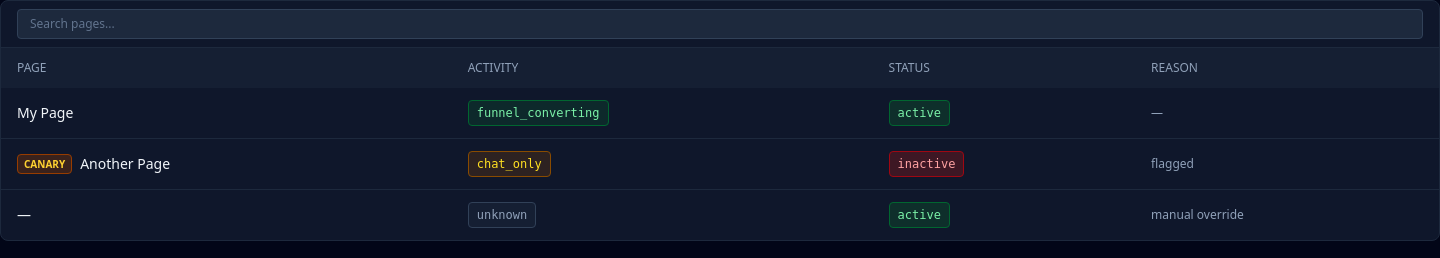
SearchablePageTable › shows empty state when no rows match
In the field with placeholder "Search pages...": (720, 24) [17,9,1423,39], type "zzznonexistent"
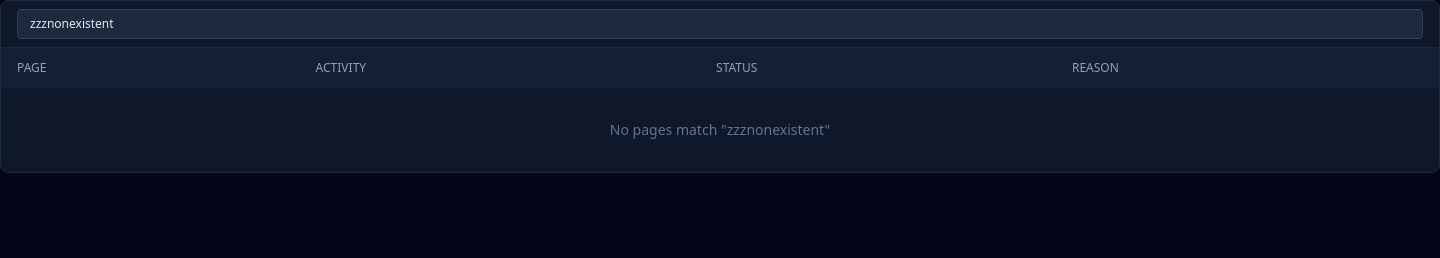
Result: the text "No pages match \"zzznonexistent\"" is shown at [610,120,830,139]
